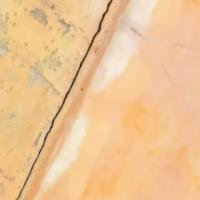crack: (14, 0, 122, 199)
